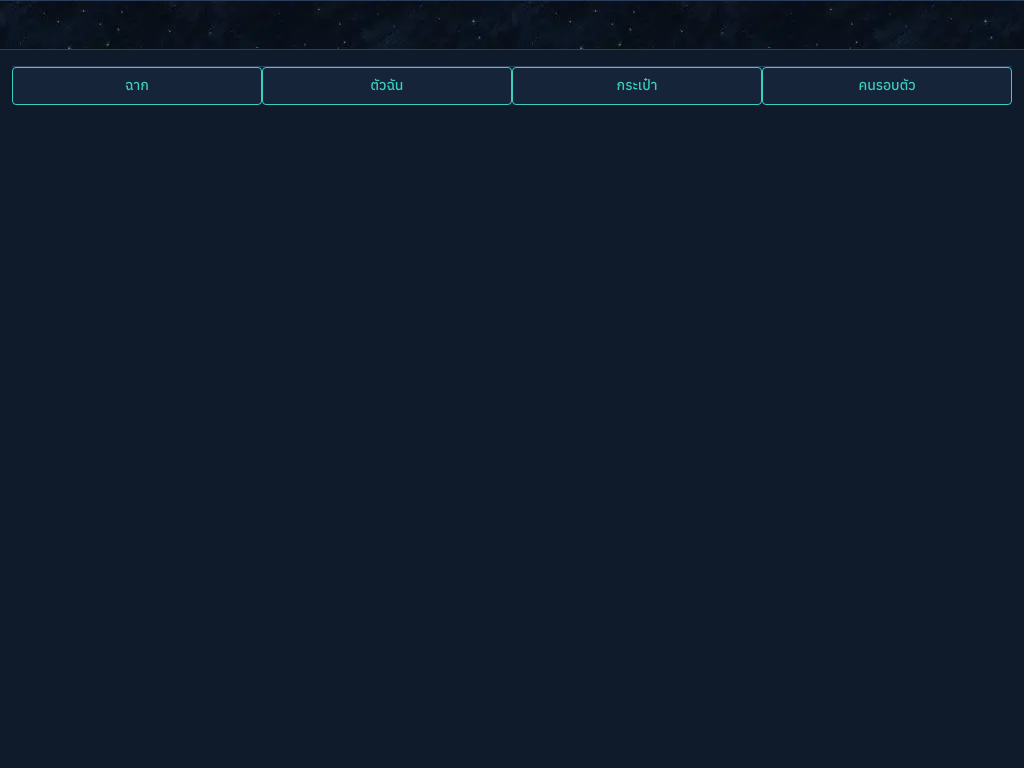
Test: GEN-136 › C2: the sheet opened from the first bottom tab names its first tab like the bottom tab
Click the button "ฉาก" at (137, 86), box x1=12 y1=67 x2=262 y2=105
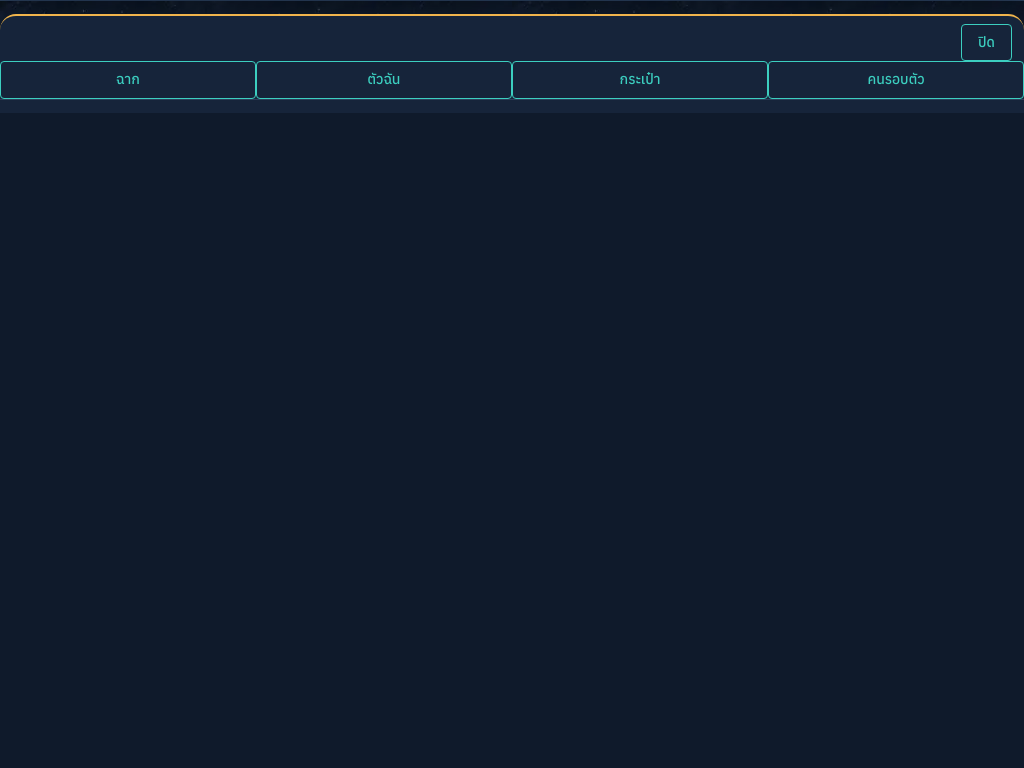
expect the tab "ฉาก" is shown: met, box x1=0 y1=61 x2=256 y2=99
